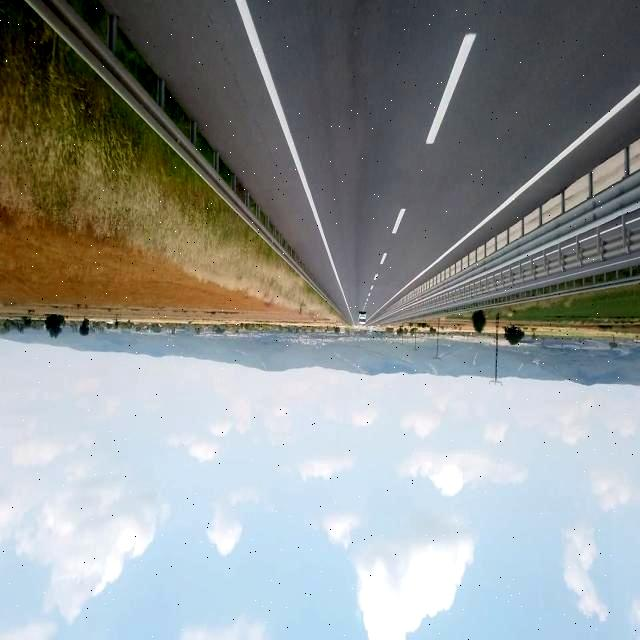lane: (380, 83, 640, 309), (232, 0, 351, 316), (429, 79, 459, 144)
road: (94, 1, 639, 325)
